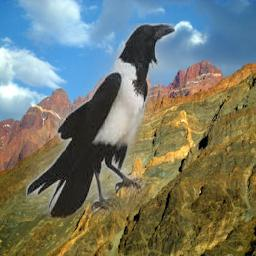Crow: (27, 24, 176, 219)
